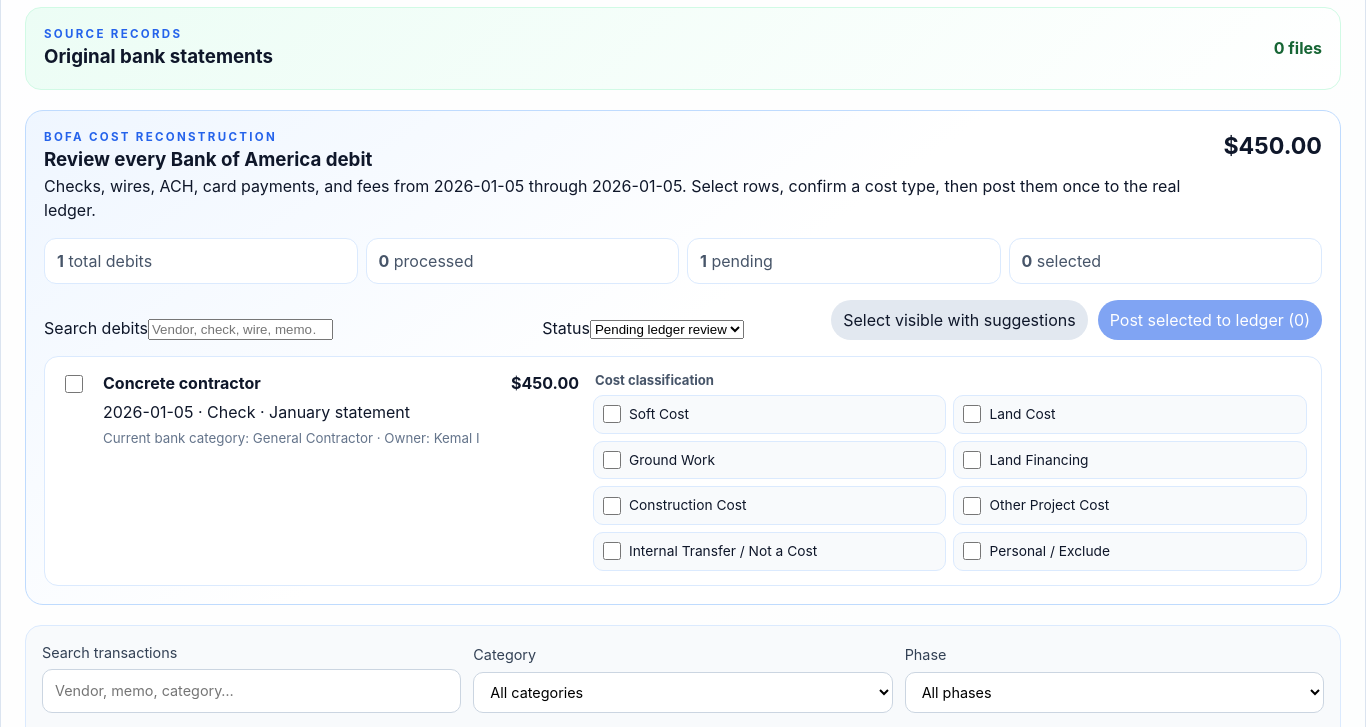
Test: BankDashboard filters › reviews BOFA debits with Soft Cost first and posts the selected classification
(page scrolled)
Expected: the heading "Review every Bank of America debit" is shown, [44,148,372,171]
Expected: the text "Soft Cost" is shown, [629,404,689,425]
Step 1. Click the checkbox named "Select debit Concrete contractor" → [74, 384], box [65,376,83,394]
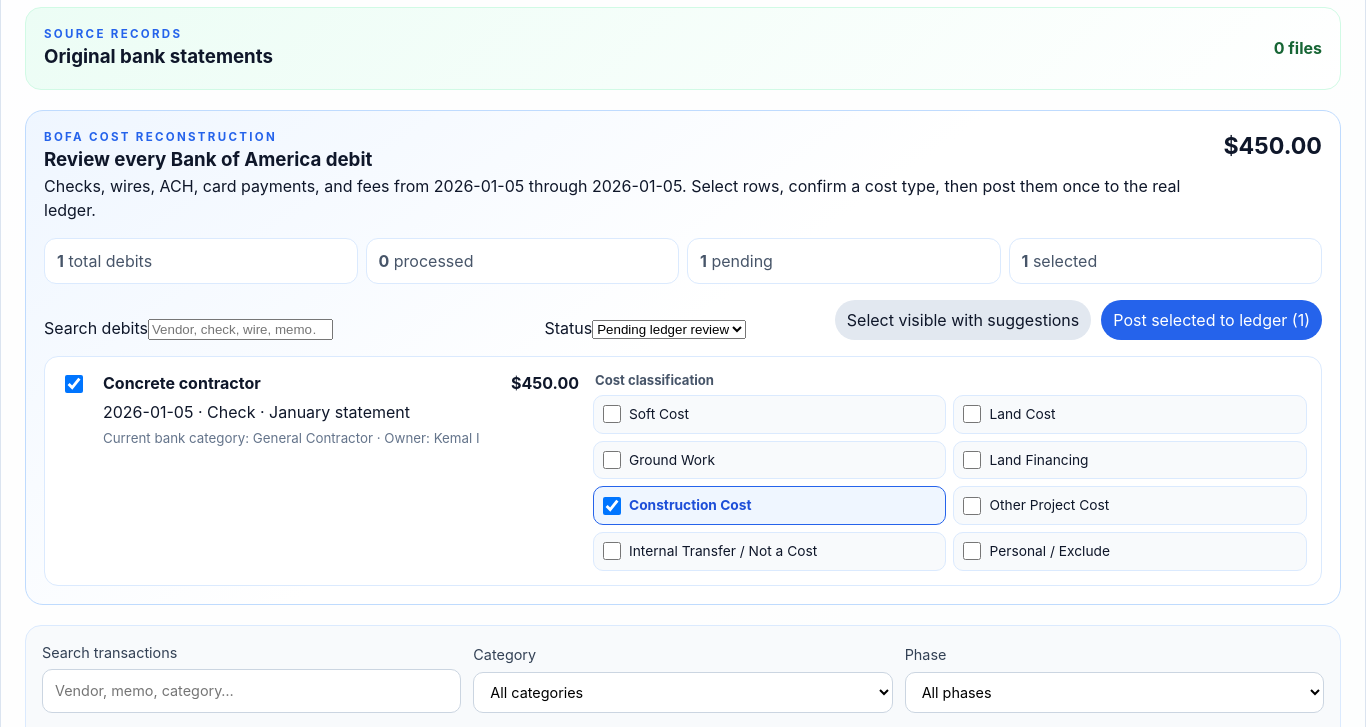
Step 2. Click the checkbox named "Soft Cost for Concrete contractor" → [612, 414], box [603,406,621,424]
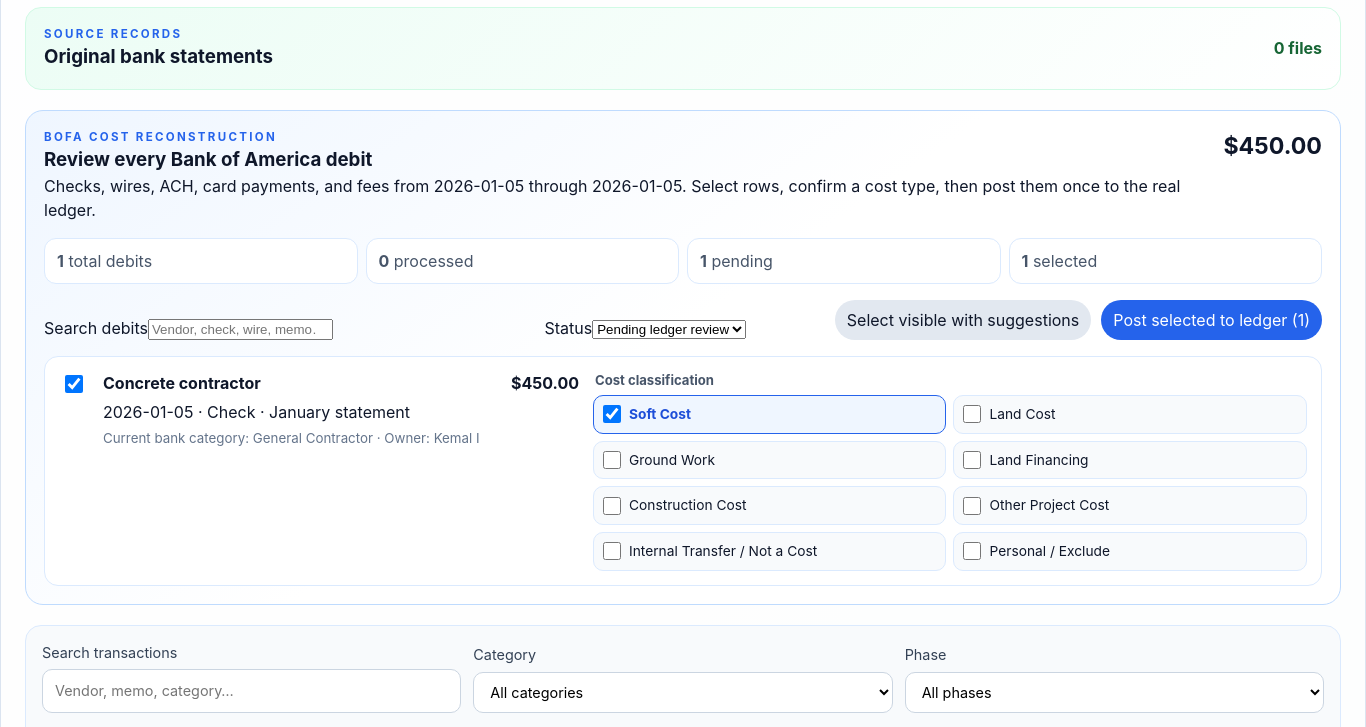
Step 3. Click the button "Post selected to ledger (1)" → [1212, 320], box [1101,300,1322,340]
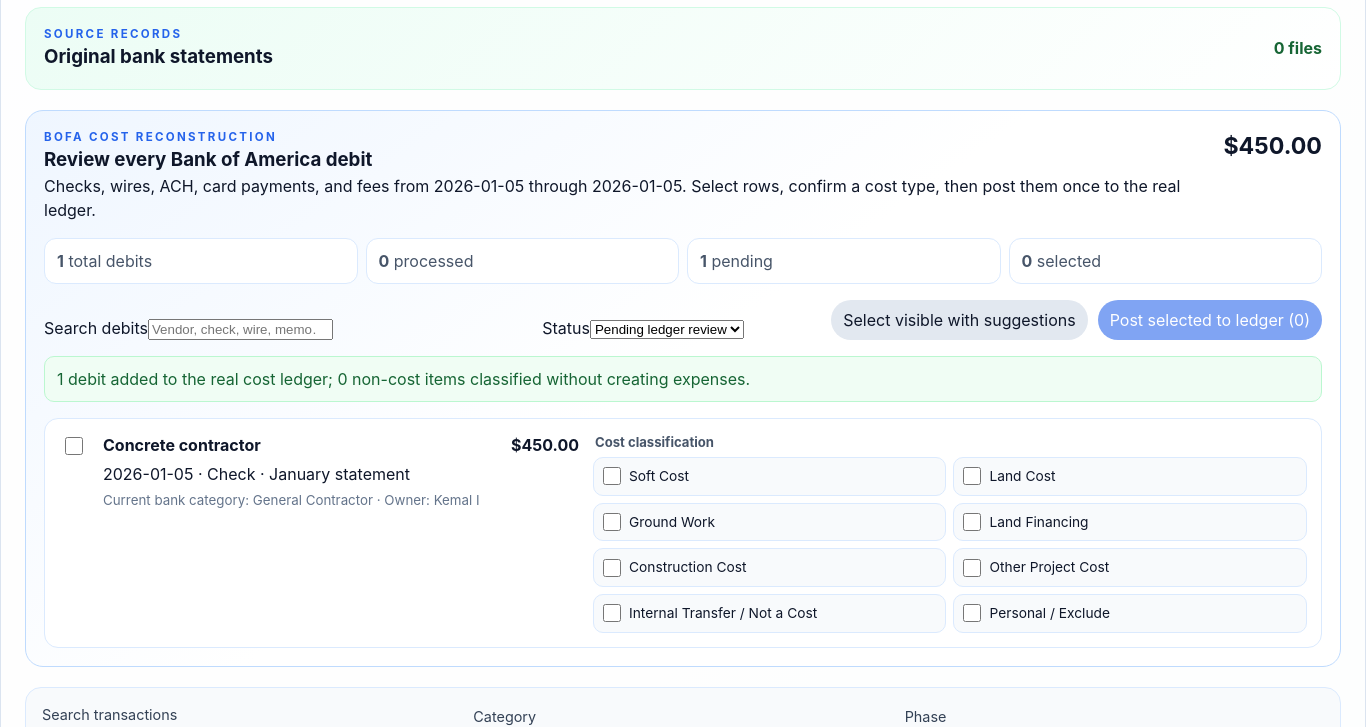
Now the text "1 debit added to the real cost ledger" is shown, box [57,370,750,390]
